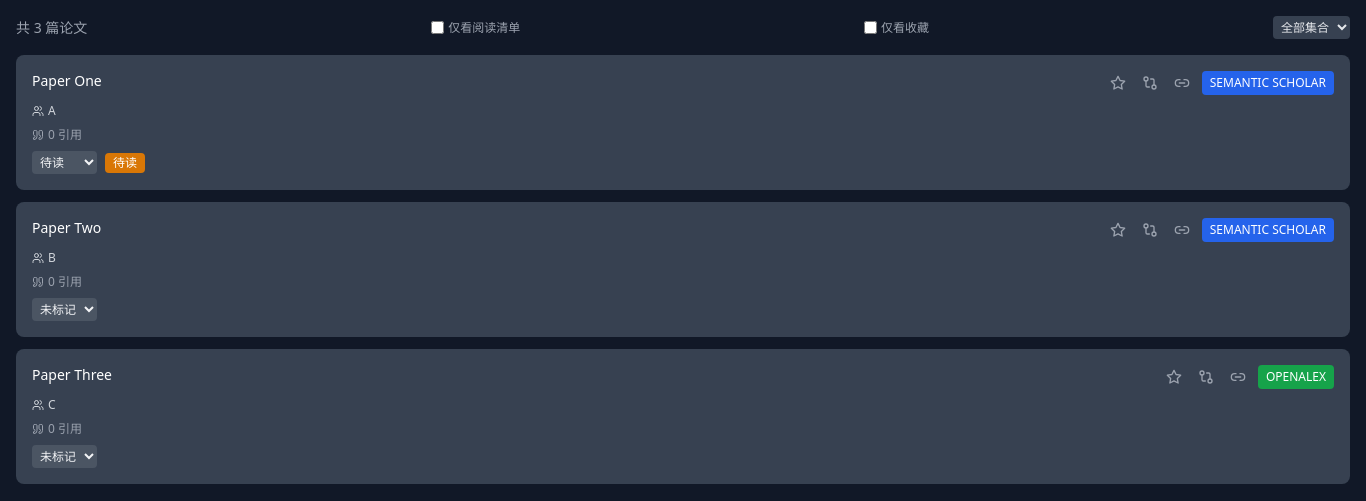
PaperList › filters to the reading list
Expected: the heading "Paper Two" is shown, [32, 218, 101, 237]
Click the checkbox labelled "仅看阅读清单" at (438, 28), box [431, 21, 444, 34]
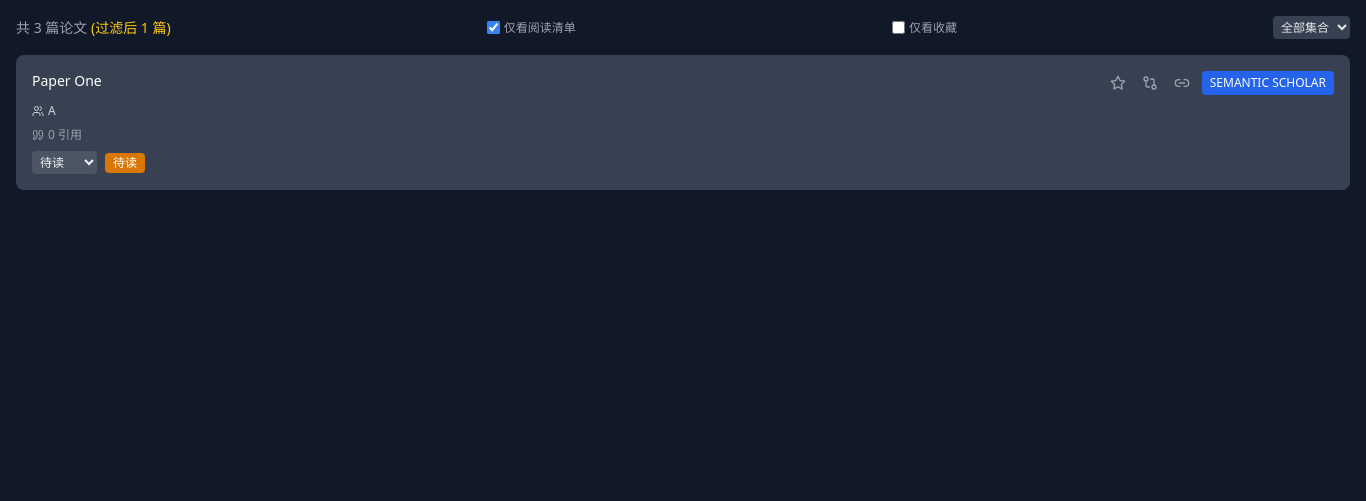
Expected: the heading "Paper One" is shown, [32, 71, 102, 90]
Expected: the heading "Paper Two" is gone
